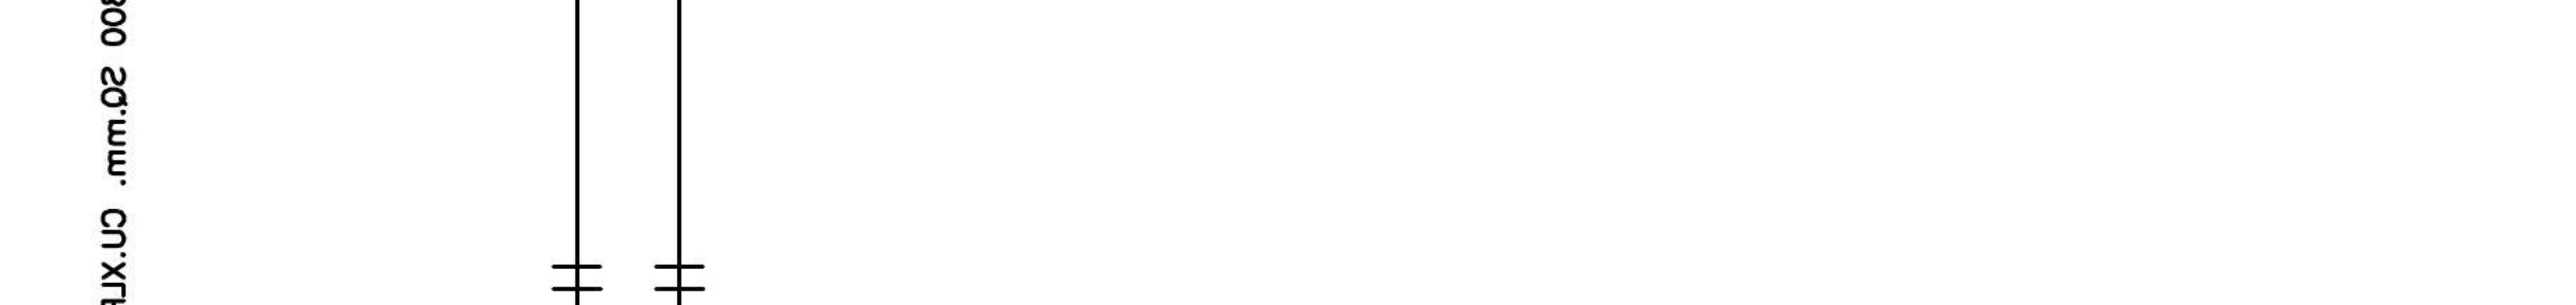115_buffer: (550, 264, 603, 292), (654, 264, 706, 292)
